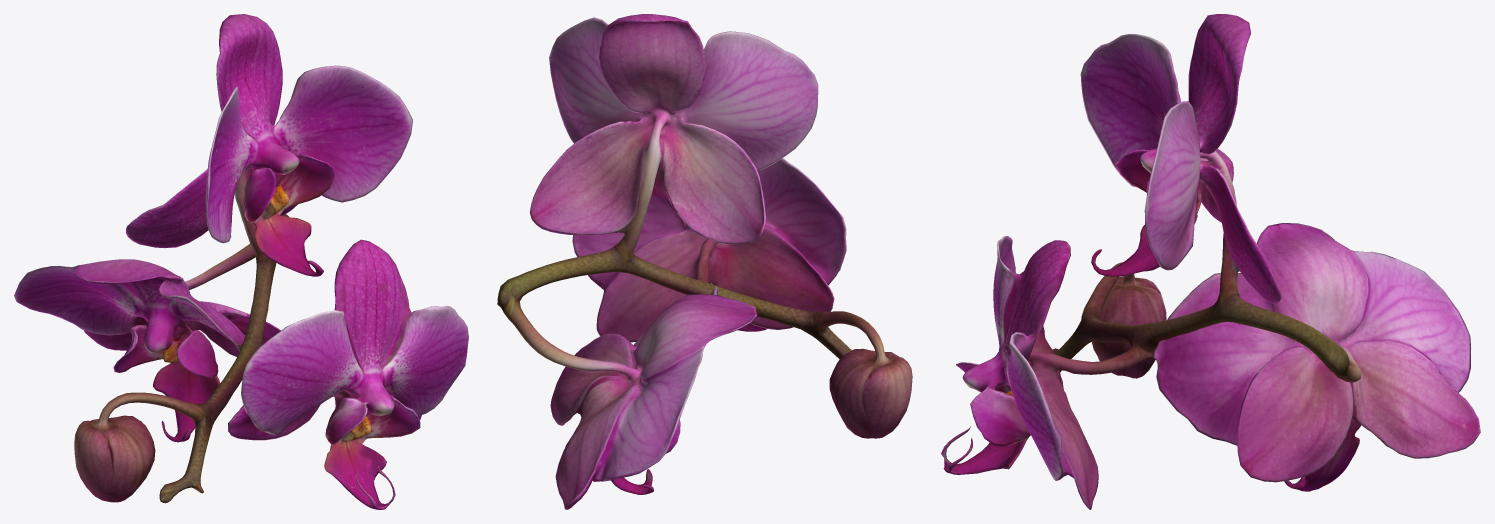
Rendered from orchid.glb.
3 views of the same model, side by side, from view 1: azimuth 30°, elevation 25°; view 2: azimuth 150°, elevation 25°; view 3: azimuth 270°, elevation 25° (orthographic). The views are drawn at different scales.
Visible parts, largest first — view 1: Object_2; view 2: Object_2; view 3: Object_2.
Part boxes in pixels (<box>): Object_2: <box>14,14,468,509</box>; Object_2: <box>497,14,912,509</box>; Object_2: <box>941,14,1480,509</box>.
Size of the model in its own units: 0.312 by 0.3657 by 0.3698.
1 material, 1 textured.
